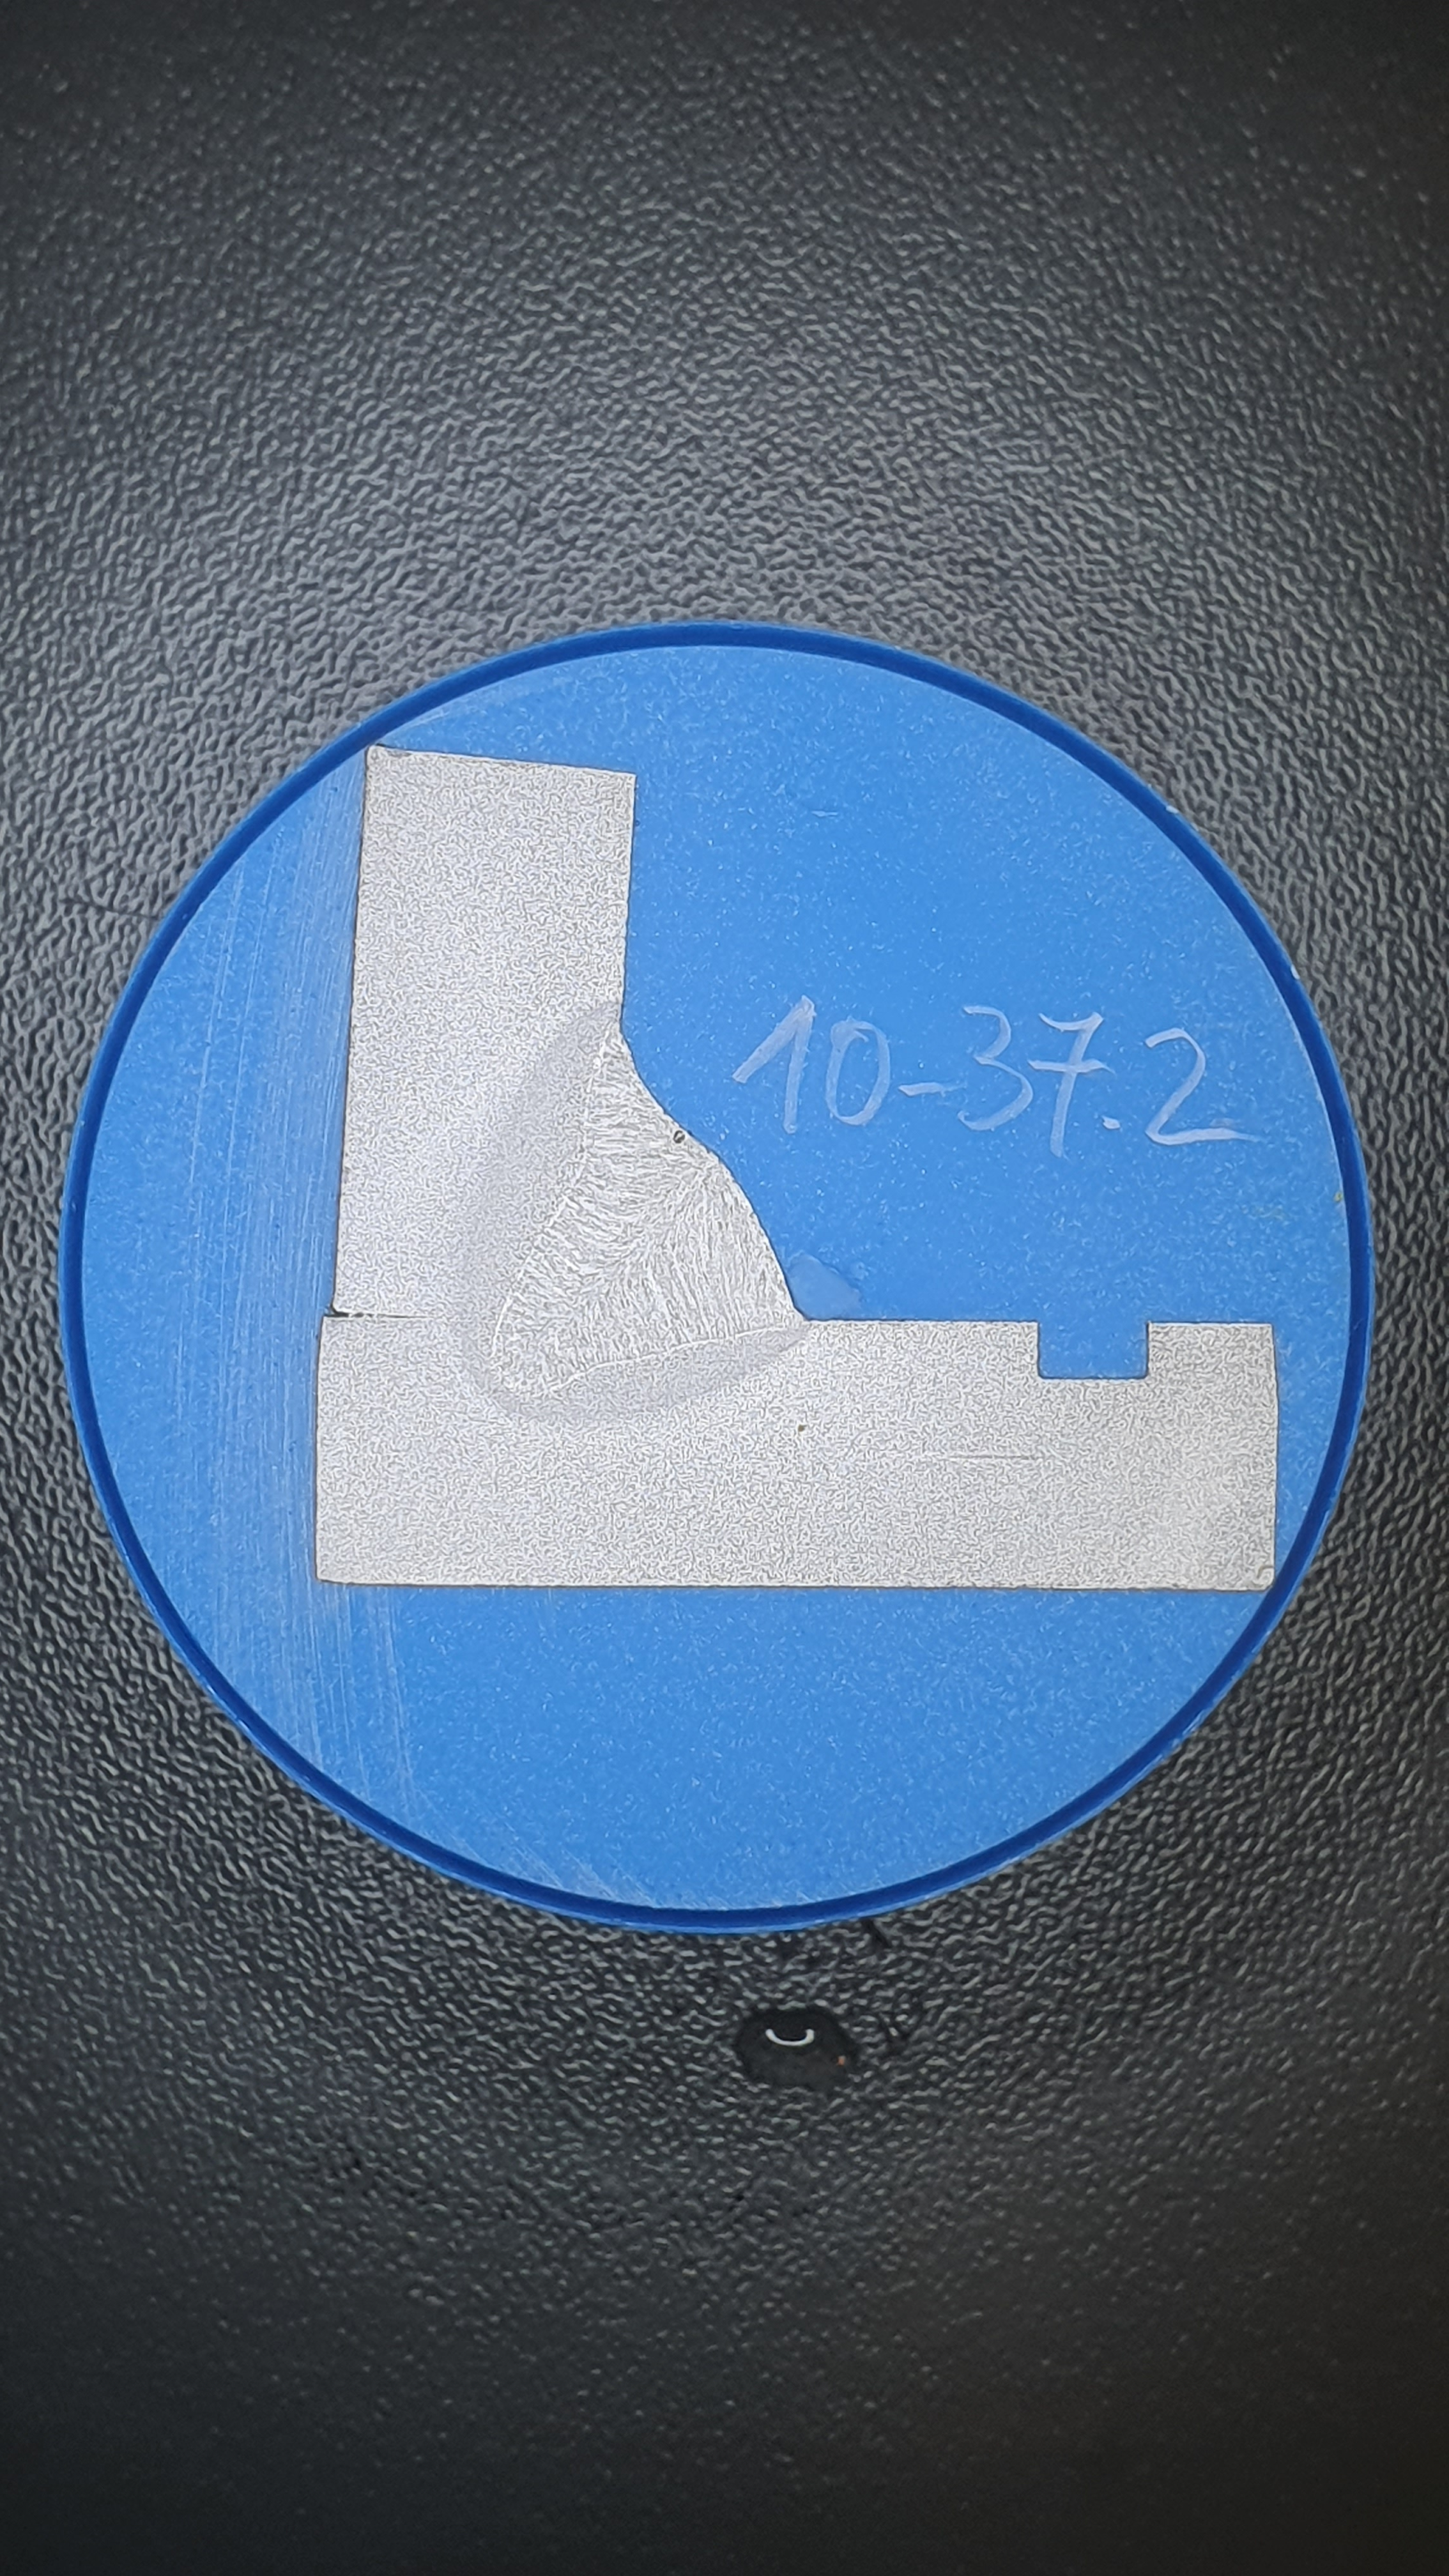Fusion: (490, 1023, 809, 1396)
Hintergrund: (81, 646, 1350, 1907)
Metall: (315, 743, 1279, 1592)
Nebenbereich: (425, 1001, 812, 1422)
